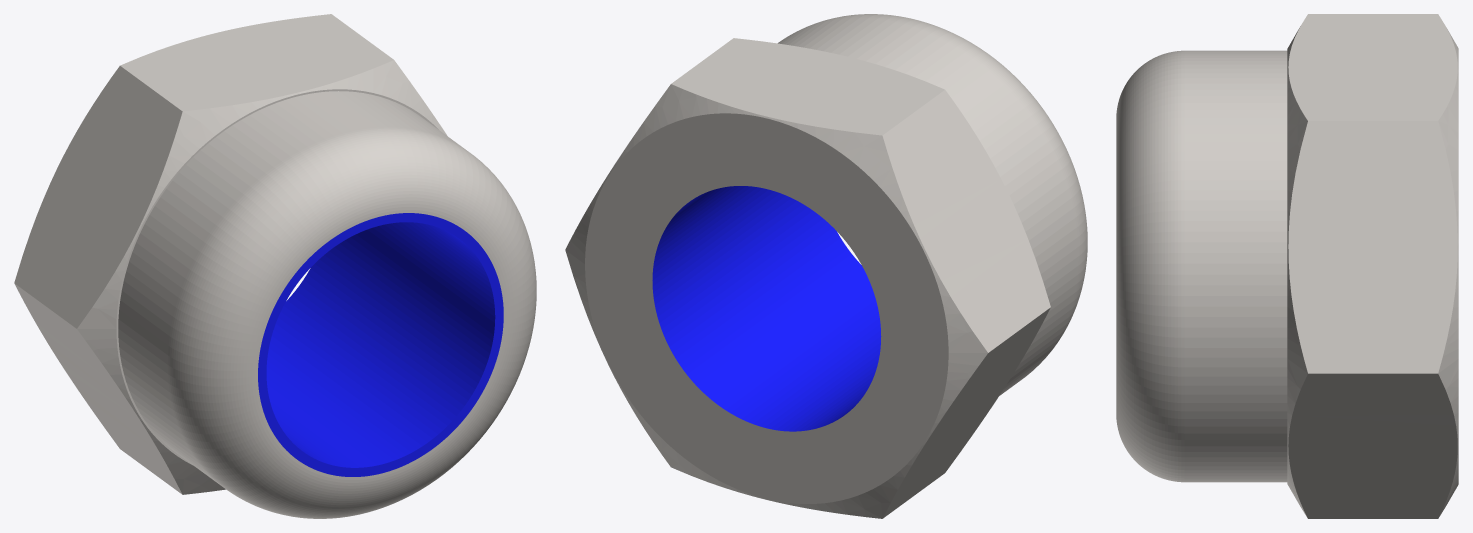
The model's file is M4-NYLOC.glb.
3 renders of one model, left to right at view 1: azimuth 30°, elevation 25°; view 2: azimuth 150°, elevation 25°; view 3: azimuth 270°, elevation 25°, orthographic. The views are drawn at different scales.
Visible parts, largest first — view 1: Node1, Node2; view 2: Node1, Node2; view 3: Node1.
Boxes of the visible parts, x1,y1,x2,y2 form: Node1: (14,14,536,518); Node2: (258,213,503,476); Node1: (565,14,1087,518); Node2: (652,186,881,431); Node1: (1116,14,1458,518).
Bounding box in the file's own units: 7.4 × 6.41 × 5.
